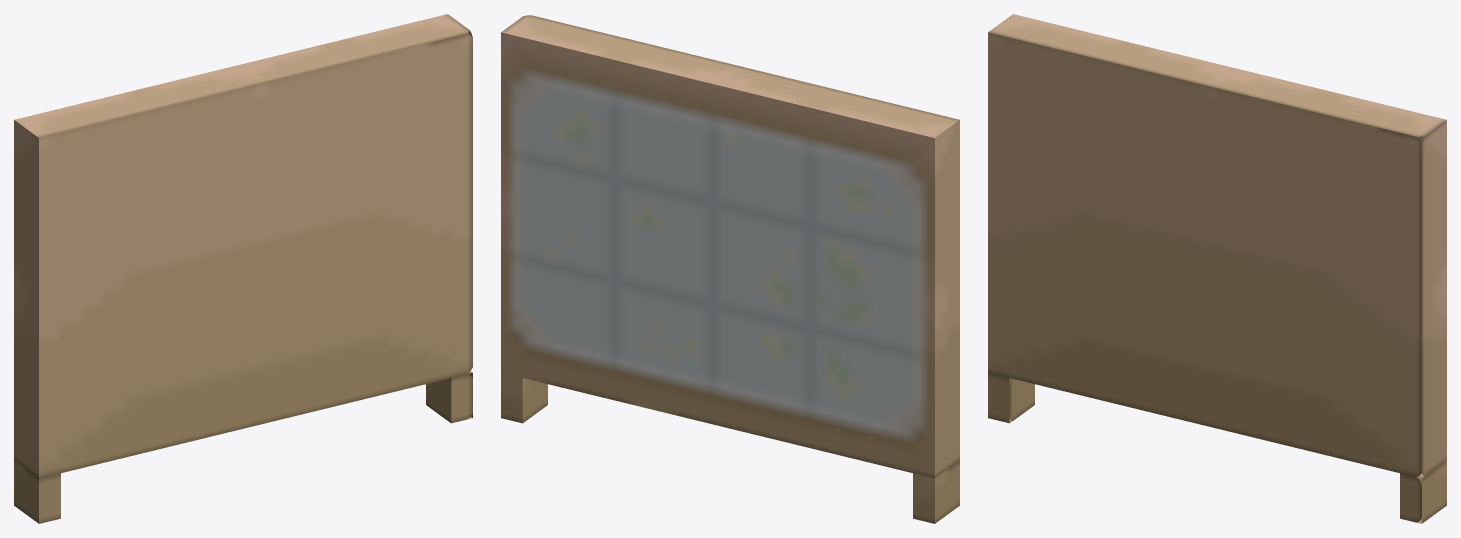
File: SeaChartBoard.fbx
3 renders of one model, left to right at view 1: azimuth 30°, elevation 25°; view 2: azimuth 150°, elevation 25°; view 3: azimuth 330°, elevation 25°, orthographic.
Parts seen in each view (by area): view 1: board, leg_1, leg; view 2: board, leg_1, leg; view 3: board, leg, leg_1.
Boxes of the visible parts, x1,y1,x2,y2 form: board: [14, 14, 472, 478]; leg_1: [14, 460, 60, 523]; leg: [426, 371, 472, 423]; board: [501, 15, 959, 478]; leg_1: [913, 460, 959, 523]; leg: [501, 373, 547, 423]; board: [988, 14, 1446, 478]; leg: [1400, 460, 1446, 523]; leg_1: [988, 373, 1034, 423].
Size of the model in its own units: 125 by 106 by 12.5.
Materials: 1 (1 with a texture image).
